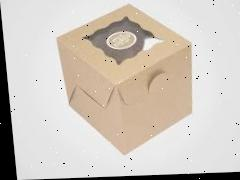cube: (54, 4, 198, 158)
